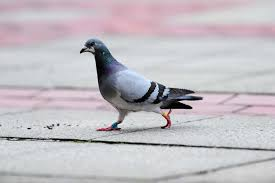Walking: (73, 34, 207, 138)
